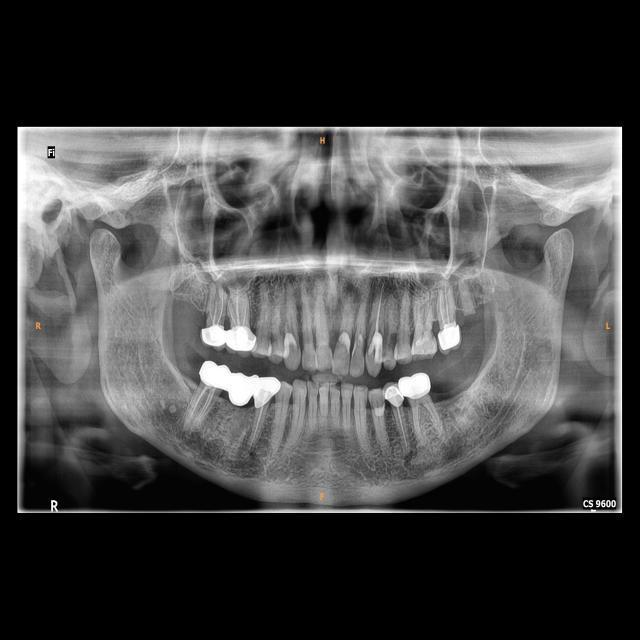dolgu: (280, 331, 300, 362), (369, 334, 384, 366), (338, 326, 351, 356)
kanal-tedavisi: (224, 284, 252, 324), (190, 384, 218, 419), (371, 286, 386, 339), (253, 402, 268, 450), (204, 287, 224, 322), (432, 294, 453, 326), (394, 405, 409, 444)
kaplama: (250, 373, 280, 408), (196, 359, 230, 389), (401, 372, 435, 402), (438, 324, 467, 354), (226, 323, 257, 349), (199, 321, 227, 348), (382, 384, 403, 410)
kopru: (215, 368, 262, 414)
